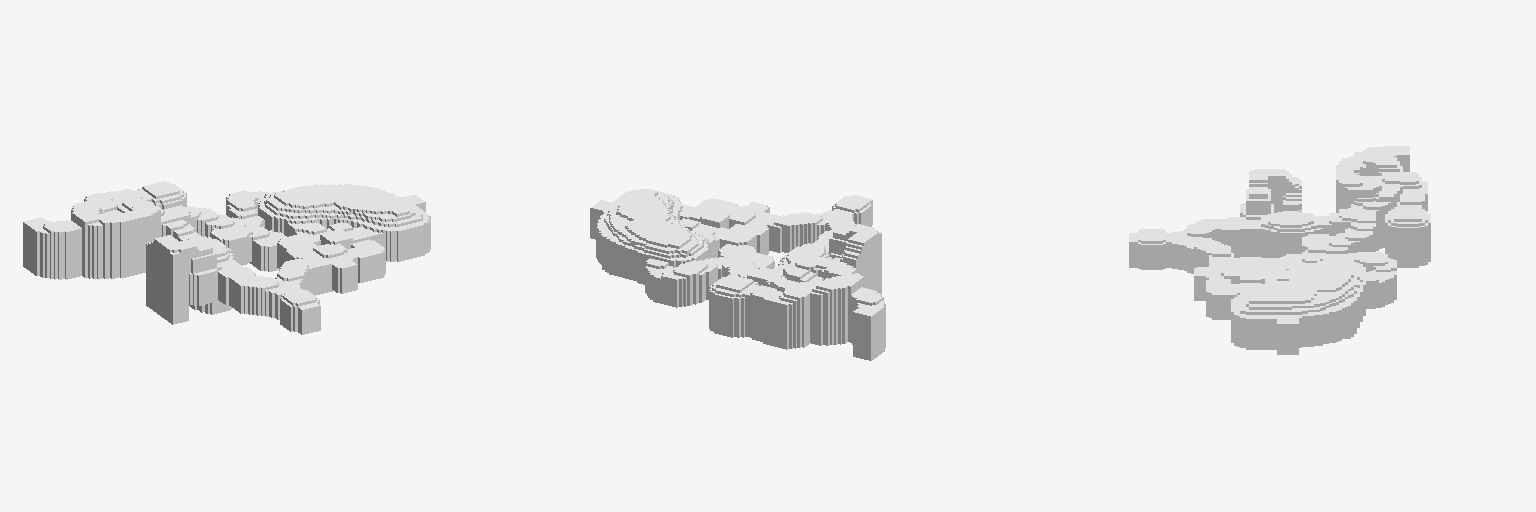
File: Level02-1.obj
3 views of the same model, side by side, from view 1: azimuth 30°, elevation 25°; view 2: azimuth 150°, elevation 25°; view 3: azimuth 270°, elevation 25° (orthographic).
Parts seen in each view (by area): view 1: object 1; view 2: object 1; view 3: object 1.
Part boxes in pixels (left/top/right/bottom): object 1: left=23, top=181, right=430, bottom=334; object 1: left=590, top=189, right=885, bottom=360; object 1: left=1129, top=146, right=1430, bottom=354.
Bounding box in the file's own units: 12.6 × 2.8 × 9.8.